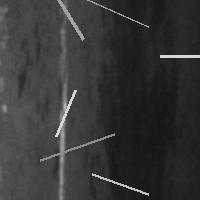scratches: (96, 1, 175, 197), (54, 15, 71, 198), (35, 129, 119, 165), (34, 0, 88, 44), (80, 0, 153, 32), (15, 24, 45, 101), (87, 169, 153, 199), (51, 85, 80, 141), (155, 51, 200, 61)
